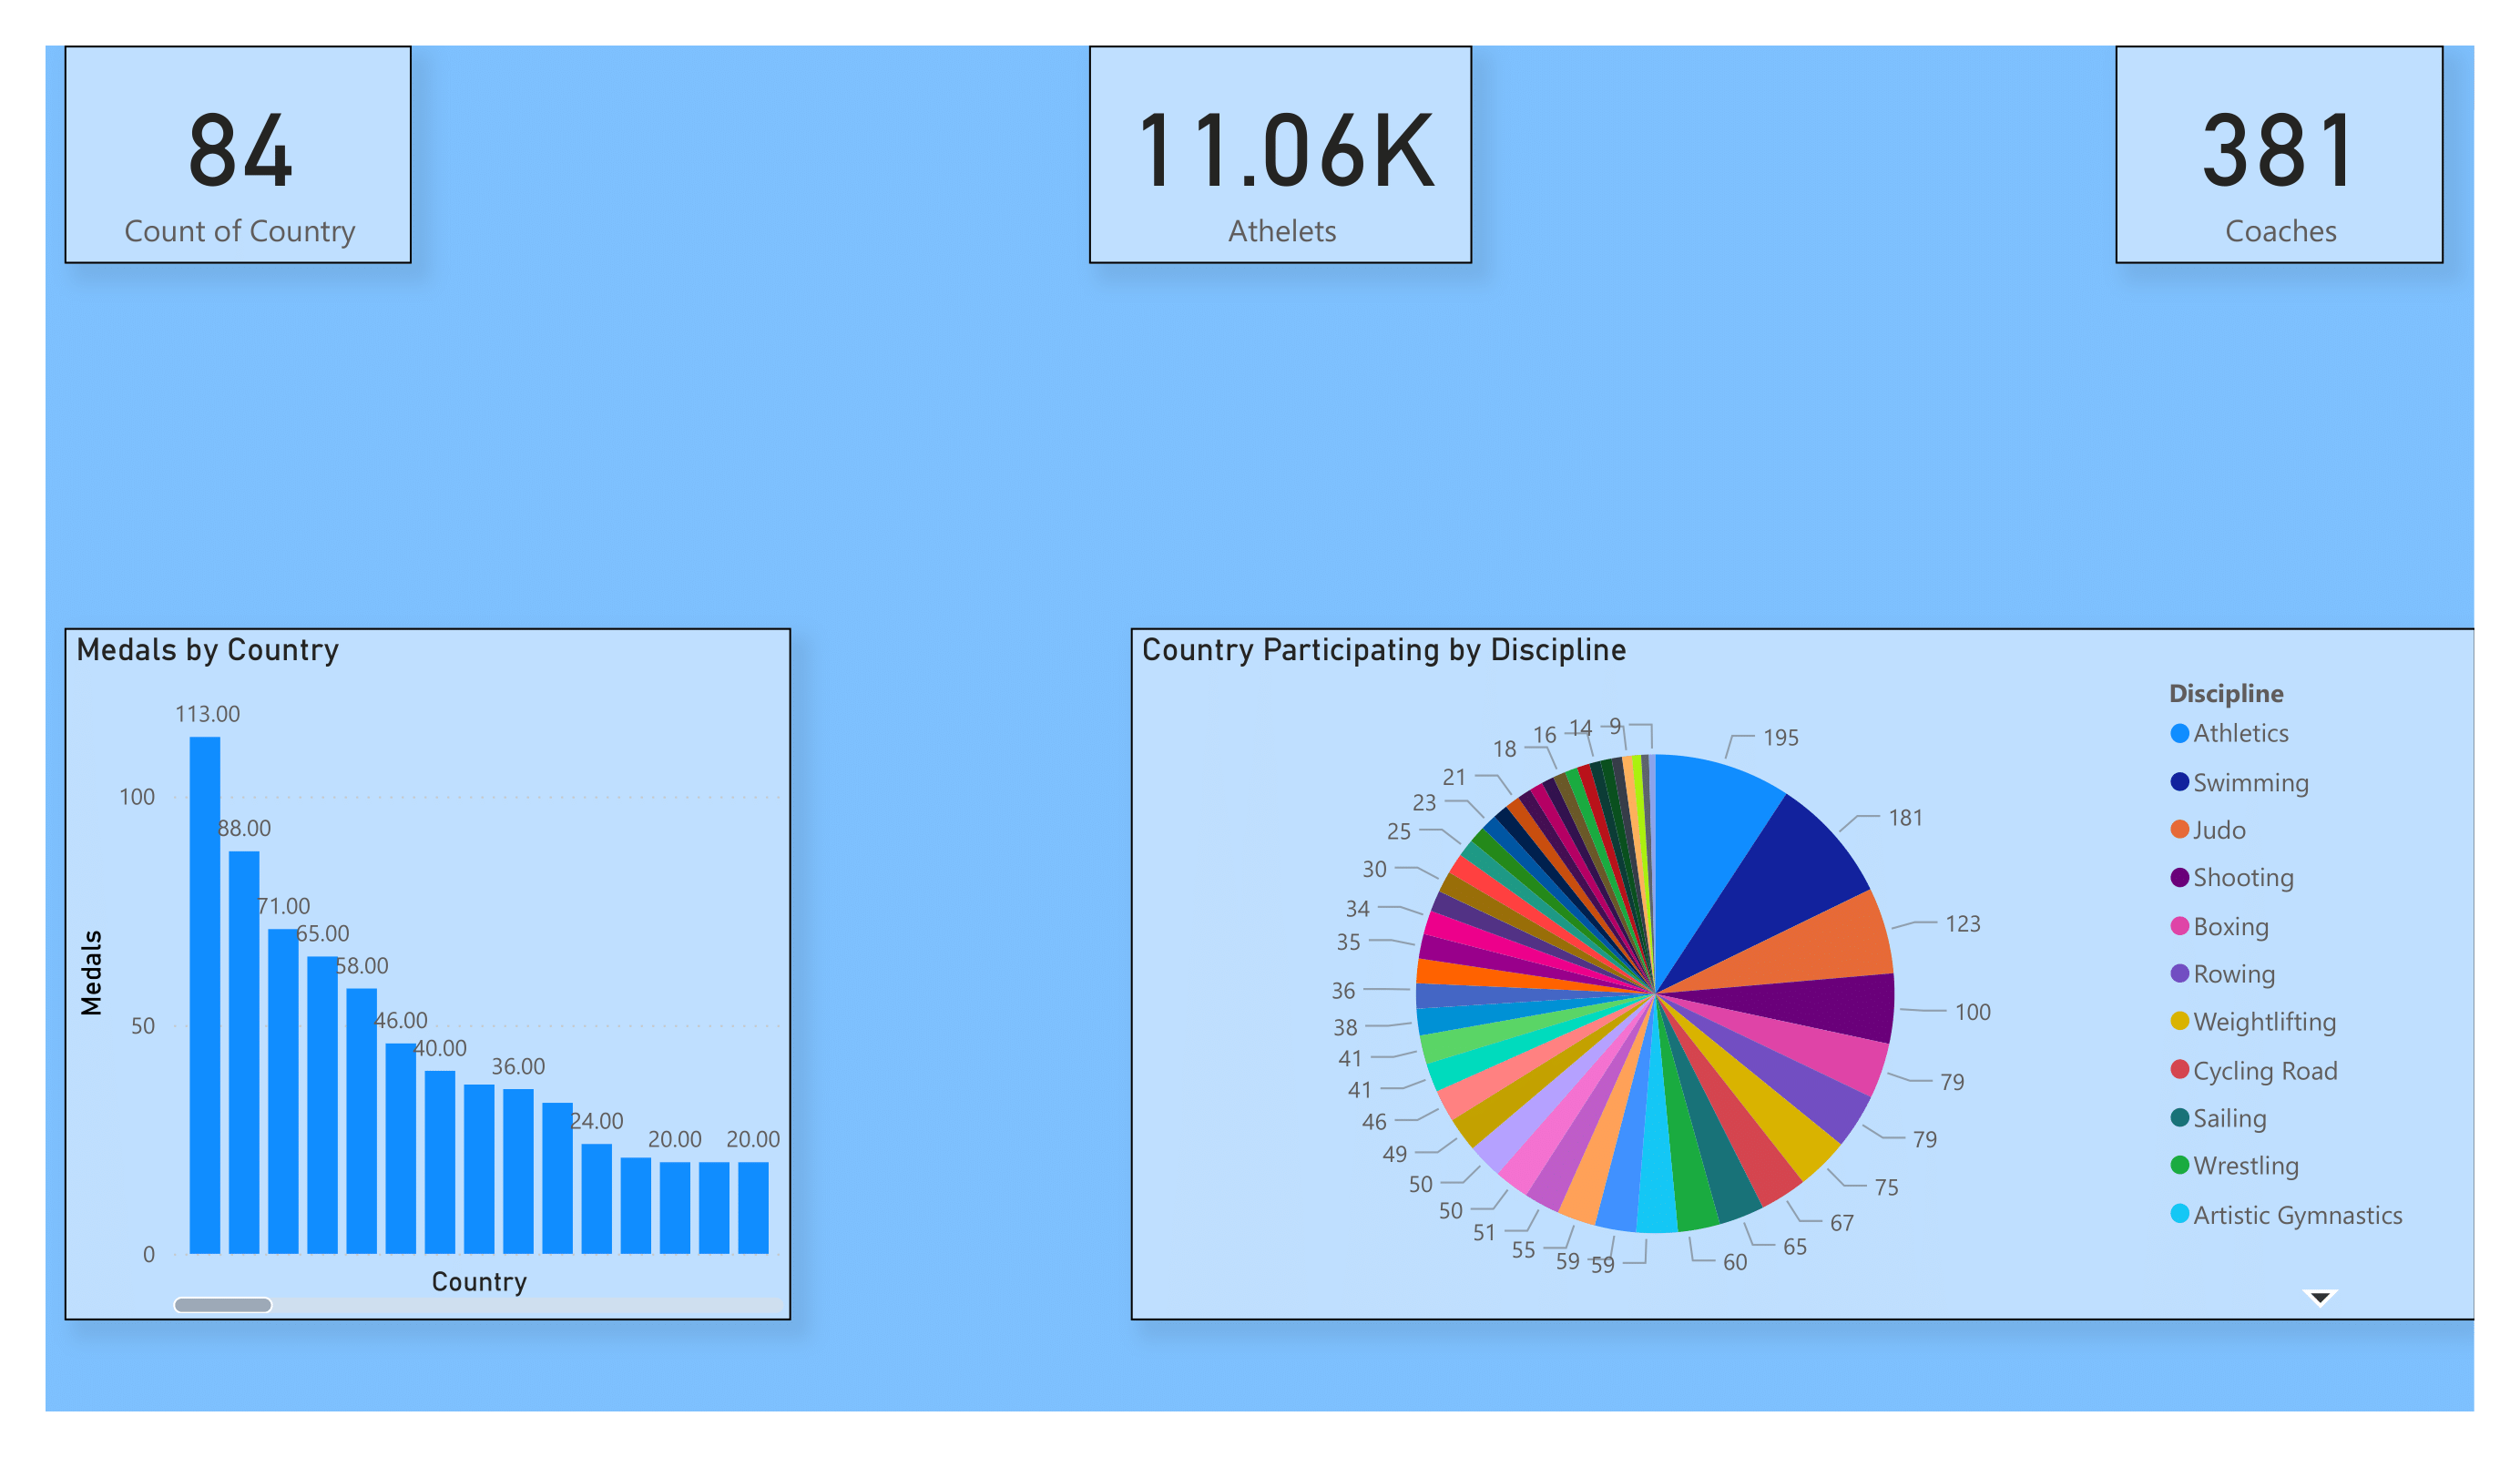

The page's visual inventory and layout, read from the dashboard file:
{"tool":"powerbi","page":{"name":"Dashboard","canvas":[1280,720],"ordinal":0},"visuals":[{"type":"card","fields":{"Values":["Count(teams.Country)"]},"box":[9.6,0,183.7,115.2],"z":0},{"type":"card","fields":{"Values":["Count(athletes.PersonName)"]},"box":[550,0,202,115],"z":1000},{"type":"clusteredColumnChart","fields":{"Category":["medals.Team_Country"],"Y":["Avg(medals.Total)"]},"box":[9.6,307.1,383.9,364.7],"z":2000},{"type":"card","fields":{"Values":["Count(coaches.Name)"]},"box":[1091.4,0,172.8,115.2],"z":3000},{"type":"pieChart","fields":{"Category":["athletes.Discipline"],"Y":["Count(athletes.Country)"]},"box":[571.7,307.1,708.8,364.7],"z":4000}]}

Visuals, with their boxes in screenshot pixels (x1, y1, x2, y2):
card - Count(teams.Country): (64, 46, 408, 261)
card - Count(athletes.PersonName): (1076, 46, 1454, 261)
clusteredColumnChart - medals.Team_Country x Avg(medals.Total): (64, 621, 783, 1304)
card - Count(coaches.Name): (2090, 46, 2413, 261)
pieChart - athletes.Discipline x Count(athletes.Country): (1117, 621, 2443, 1304)
